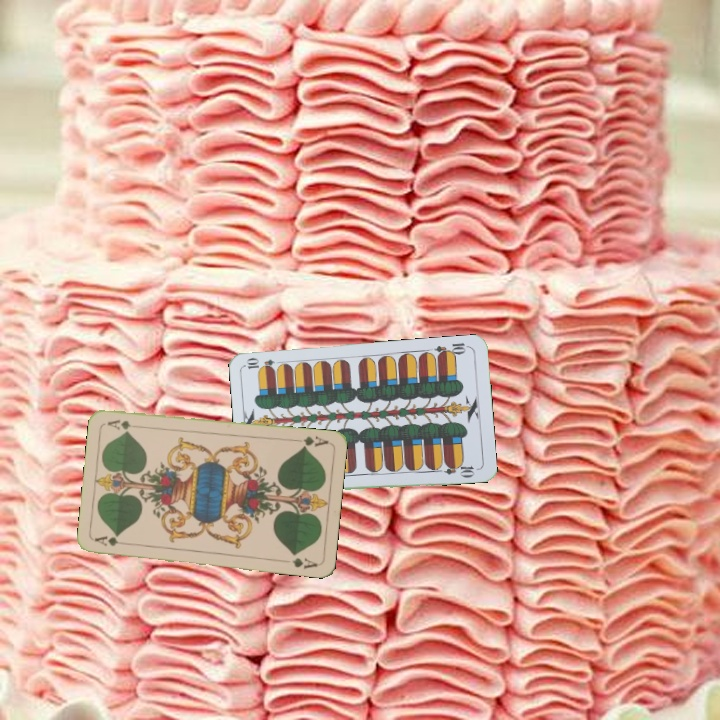E10: (431, 339, 472, 360)
GA: (291, 432, 331, 451), (91, 532, 132, 548)
